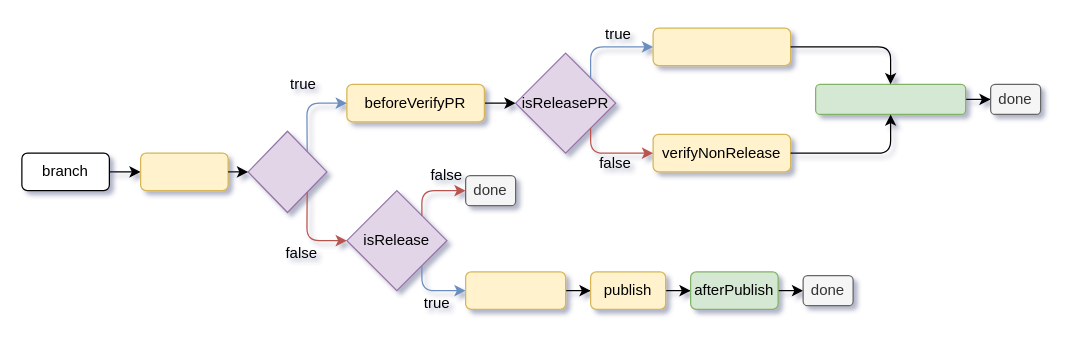
This 1070x344 diagram has some shape labels left out. Here are the shapes that lost their labels. From the top down, the centre of each, then its label:
At point (721, 46): "verifyRelease".
At point (890, 98): "afterVerifyPR".
At point (183, 171): "test".
At point (287, 171): "isPR".
At point (515, 290): "beforePublish".
